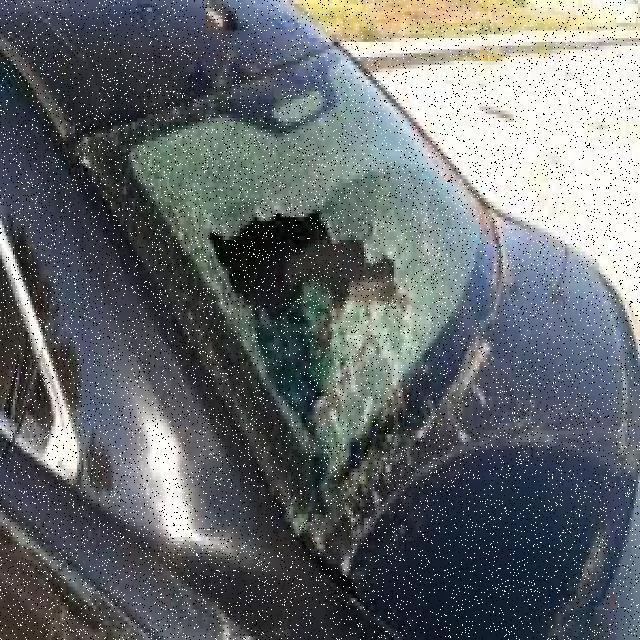Rear-windscreen-Damage: (100, 49, 506, 507)
